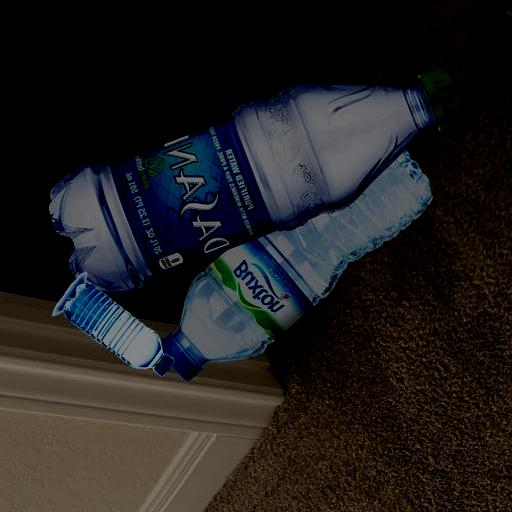bottle: (42, 53, 482, 294), (160, 152, 455, 388), (46, 272, 180, 392)
